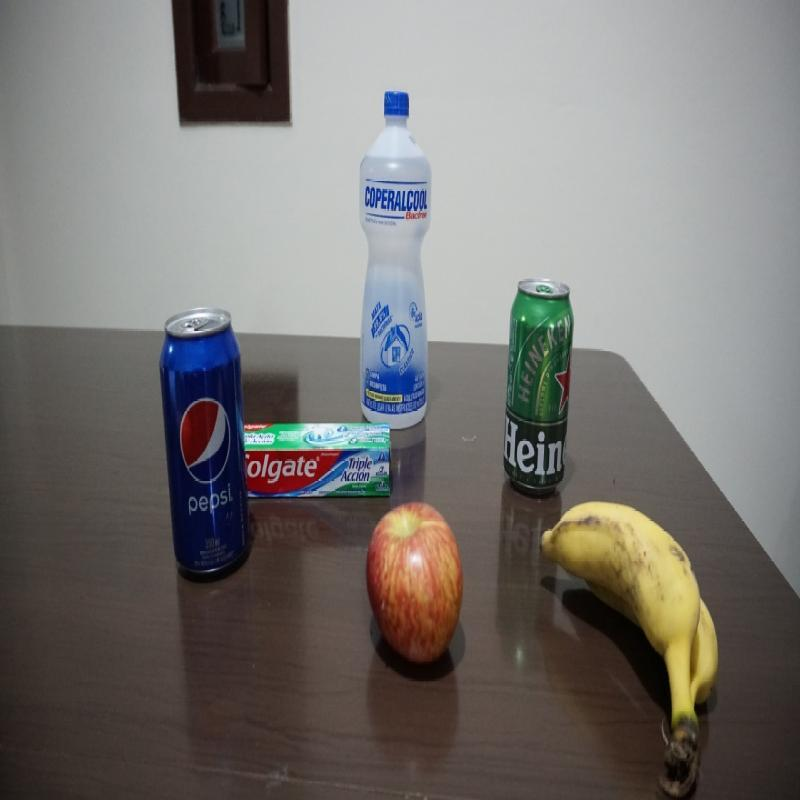Alcohol Bottle: (356, 89, 434, 430)
Apple: (364, 501, 464, 668)
Banana: (539, 500, 720, 799)
Beer can: (502, 276, 576, 494)
Soda can: (157, 306, 249, 586)
Toothpaste: (240, 420, 393, 502)
